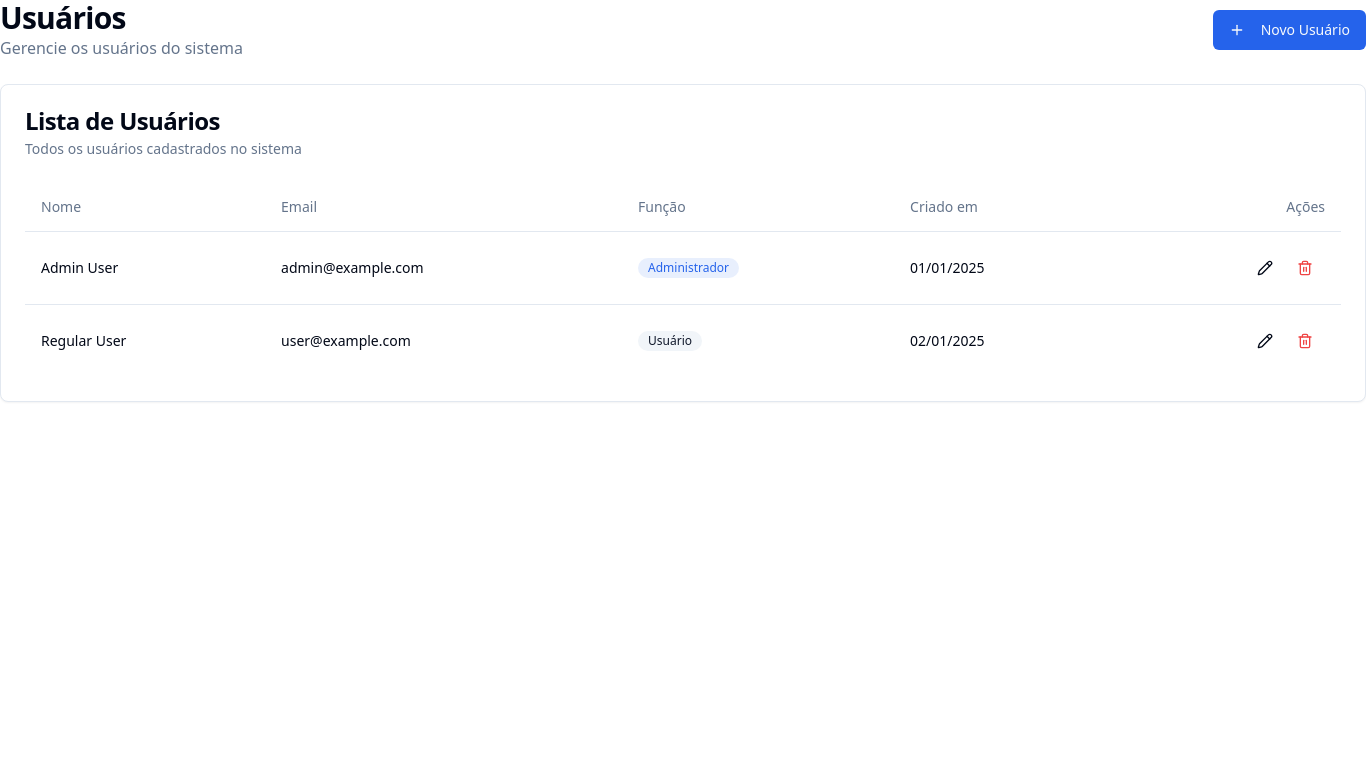
it: Users › CRUD Operations › should open edit dialog with user data
Check: the text "Admin User" is shown, box [25,231,265,304]
Click the button named "Editar Admin User". click: (1265, 268)
box: [1245,248,1285,288]
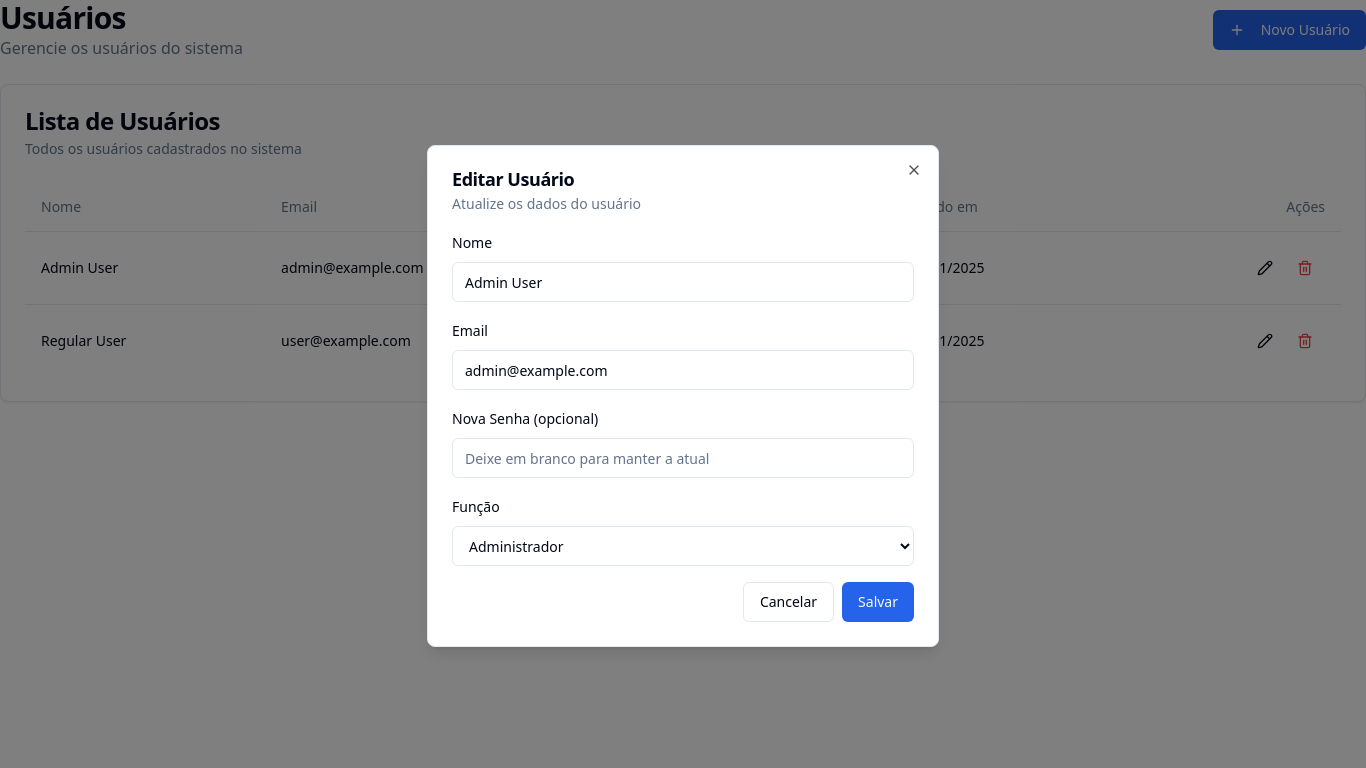
Check: the heading "Editar Usuário" is shown, box [452,167,574,191]
Check: the field showing "Admin User" is shown, box [452,262,914,302]
Check: the field showing "admin@example.com" is shown, box [452,350,914,390]
